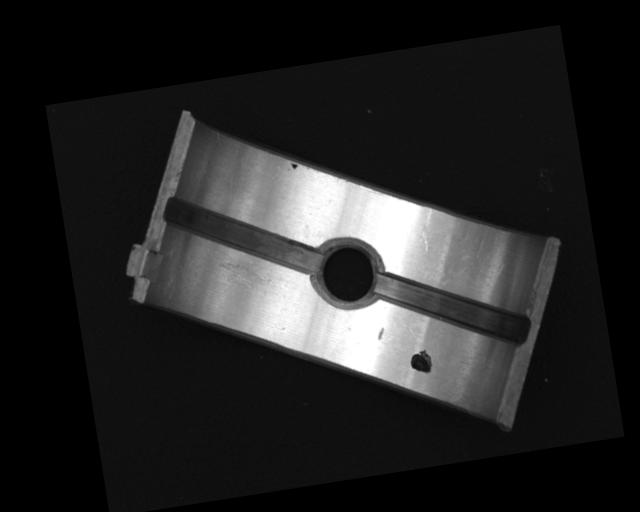blot: (407, 348, 434, 376), (289, 160, 299, 171)
bruise: (414, 206, 440, 254), (376, 326, 387, 342)
gap: (162, 177, 323, 293), (374, 254, 530, 364)
hole: (309, 233, 385, 314)
scratch: (199, 249, 282, 305)
